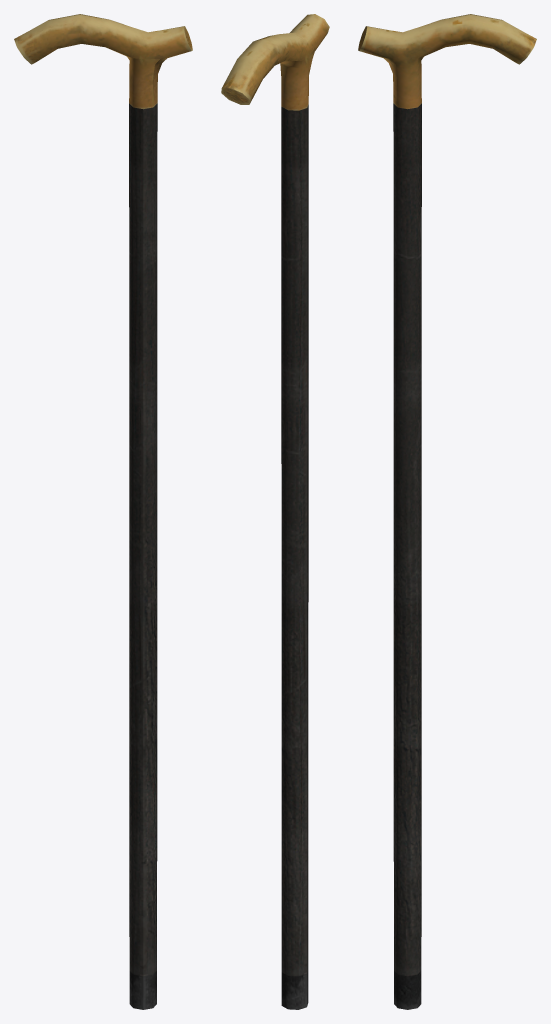
Rendered from cane01a_00ms.fbx.
3 renders of one model, left to right at view 1: azimuth 90°, elevation 25°; view 2: azimuth 150°, elevation 25°; view 3: azimuth 270°, elevation 25°, orthographic.
Parts seen in each view (by area): view 1: cane01a_00ms; view 2: cane01a_00ms; view 3: cane01a_00ms.
Part boxes in pixels (<box>): cane01a_00ms: <box>14,14,192,1009</box>; cane01a_00ms: <box>221,14,329,1009</box>; cane01a_00ms: <box>358,14,536,1009</box>.
Bounding box in the file's own units: 2.66 × 83.82 × 13.75.
1 material, 1 textured.
